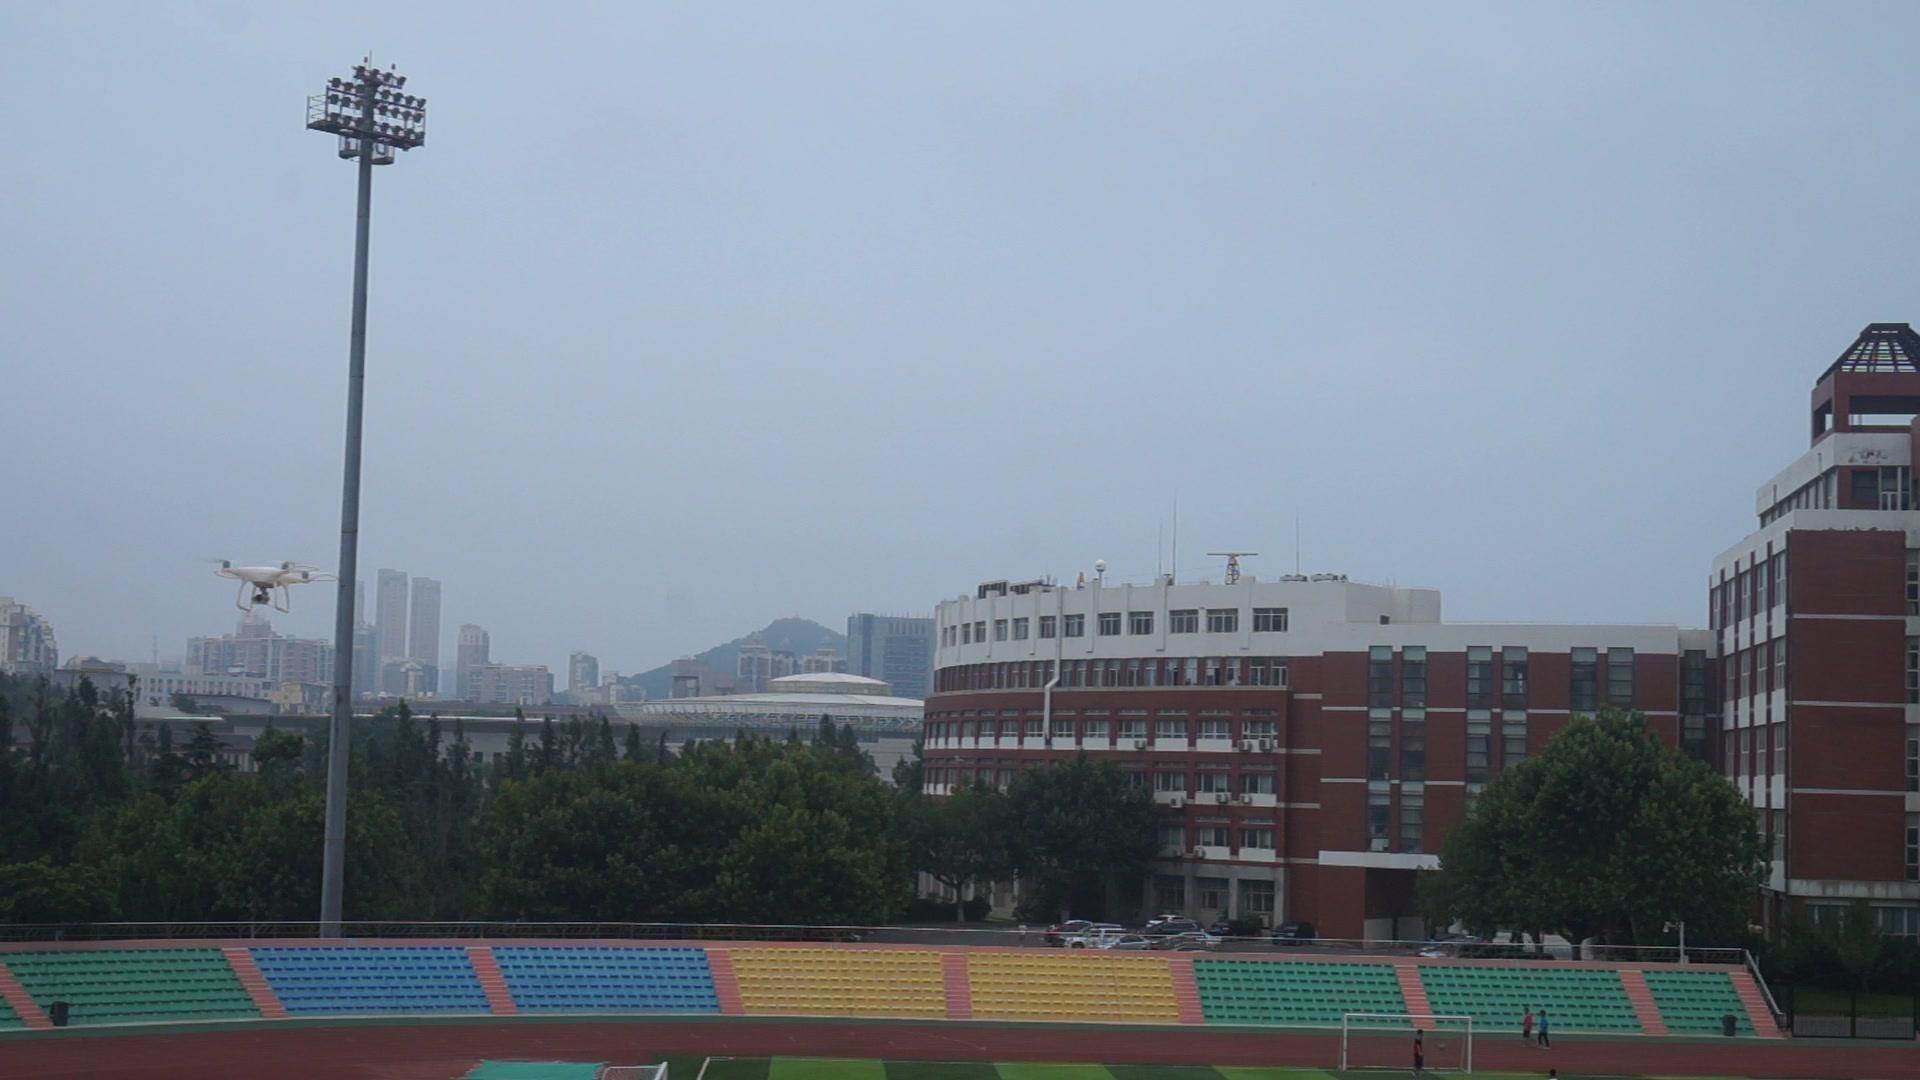UAV: (214, 559, 339, 615)
